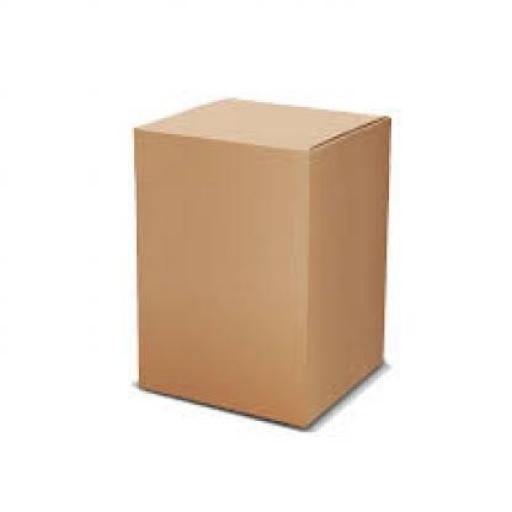cardboard: (130, 96, 389, 426)
